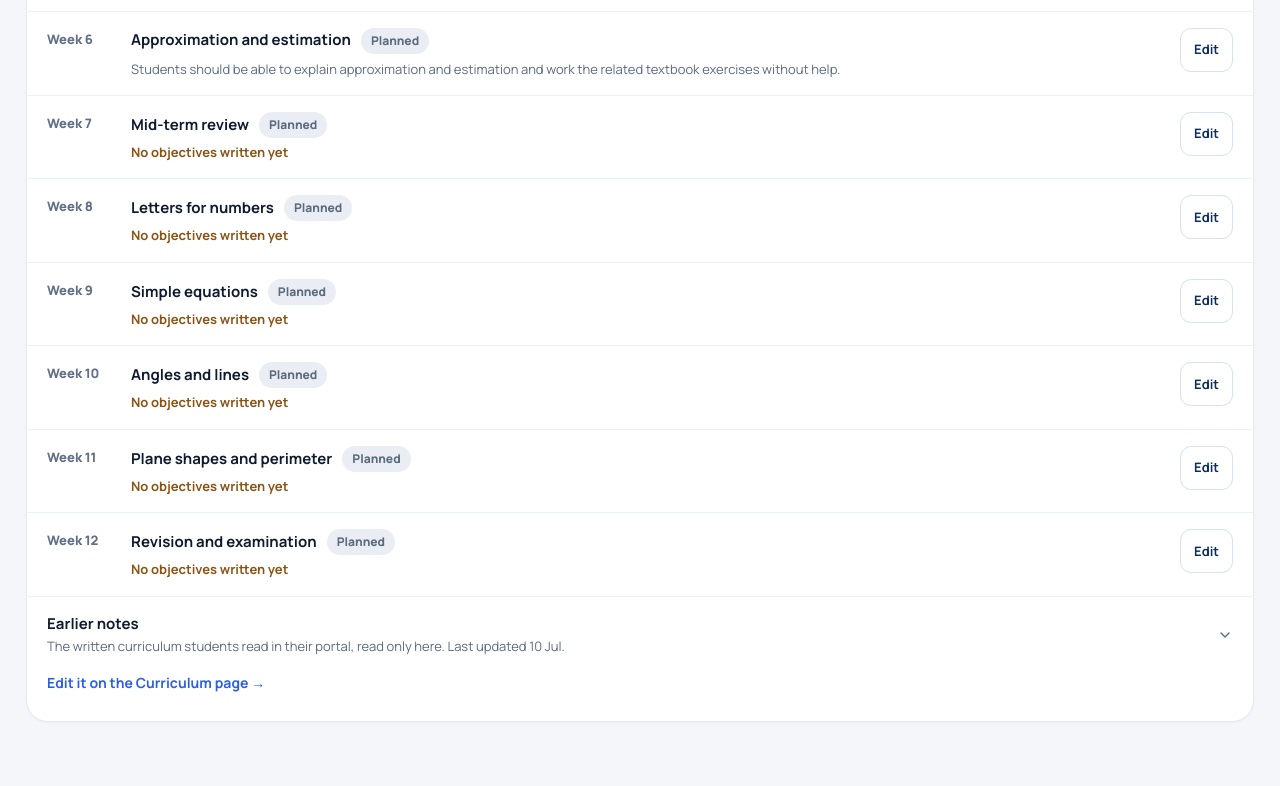
it: SubjectsScreen › shows the old curriculum under Earlier notes only when opened, sanitised
(page scrolled)
Click the button "Earlier notes": (93, 623) [47,613,1233,657]
(page scrolled)
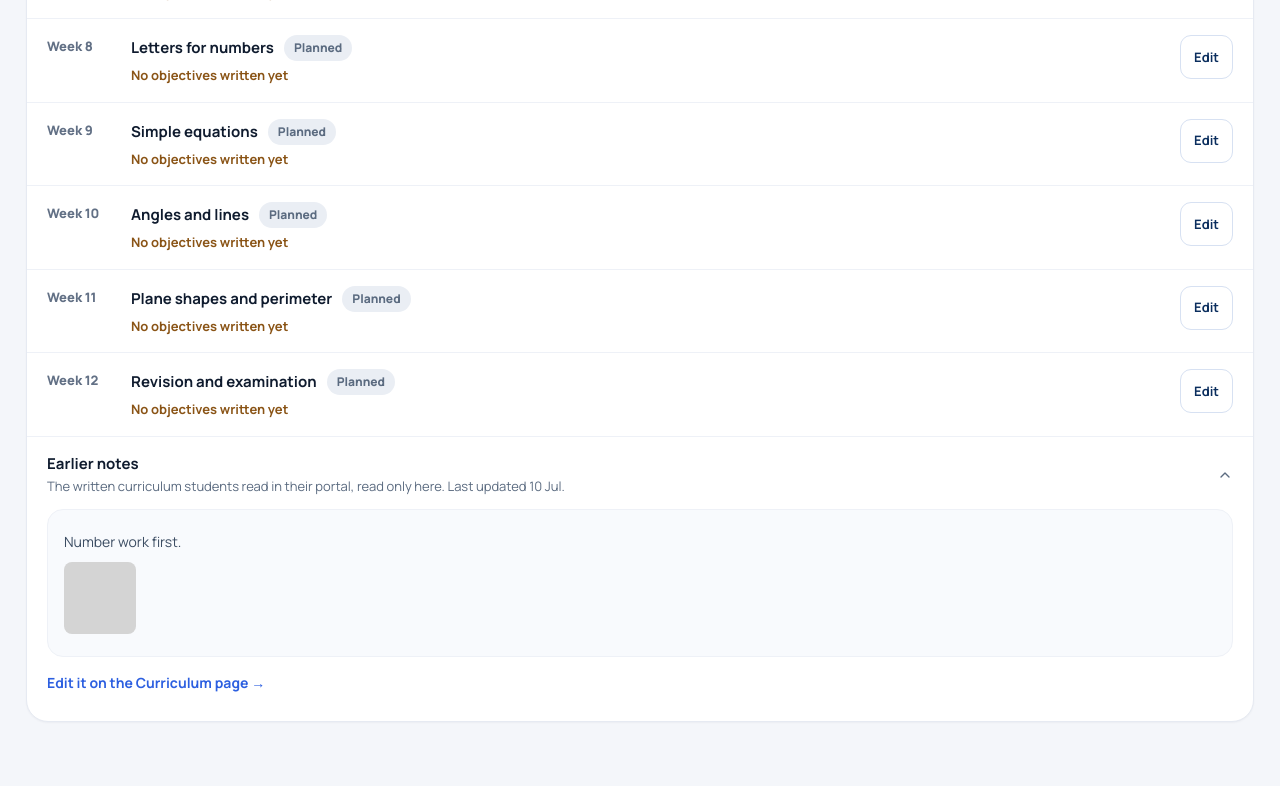
Now the button "Earlier notes" is expanded, box [47,453,1233,497]
Now the text "Number work first." is shown, box [64,532,181,551]
